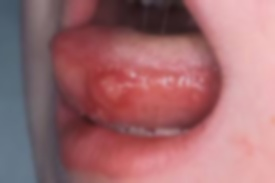Ulcer: (95, 71, 128, 104)
